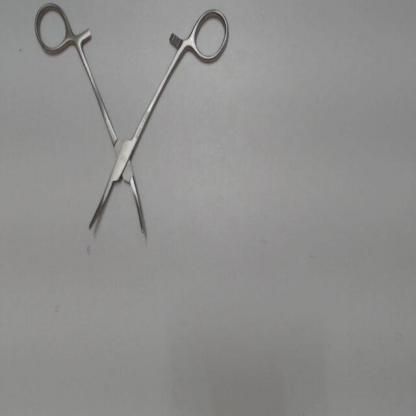Crile Artery Forceps: (19, 0, 238, 255)
